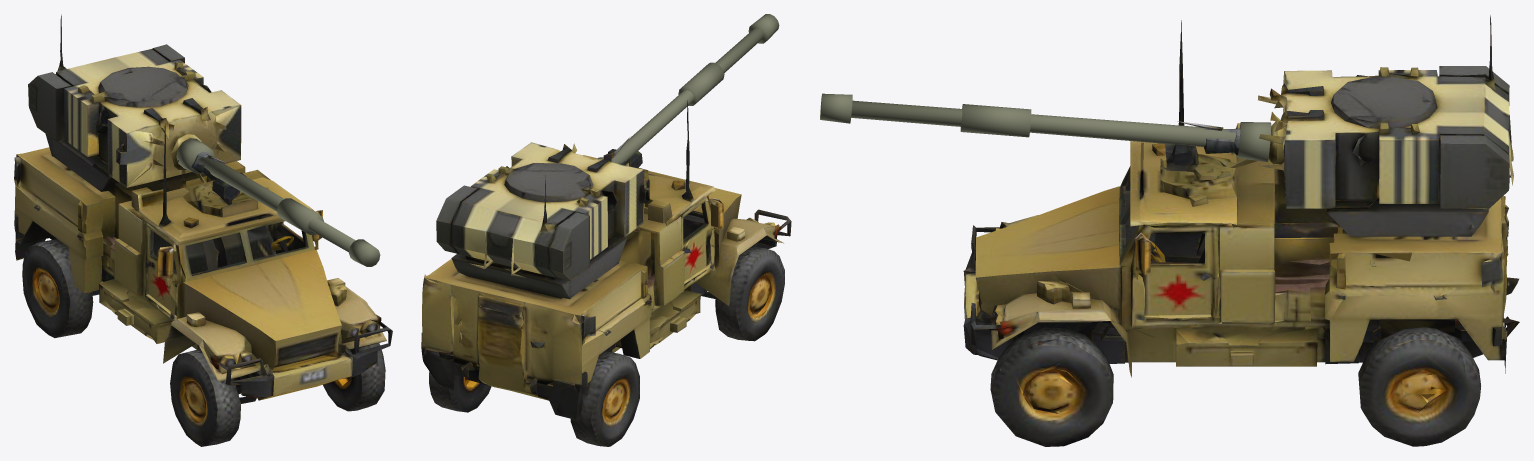
File: artillery_spg.glb
3 renders of one model, left to right at view 1: azimuth 30°, elevation 25°; view 2: azimuth 150°, elevation 25°; view 3: azimuth 270°, elevation 25°, orthographic. The views are drawn at different scales.
Parts seen in each view (by area): view 1: artillery_spg, barrel; view 2: artillery_spg, barrel; view 3: artillery_spg, barrel.
Part boxes in pixels (left/top/right/bottom): artillery_spg: left=14, top=14, right=392, bottom=446; barrel: left=176, top=138, right=380, bottom=266; artillery_spg: left=421, top=100, right=791, bottom=446; barrel: left=597, top=14, right=779, bottom=163; artillery_spg: left=963, top=15, right=1519, bottom=446; barrel: left=820, top=93, right=1271, bottom=162.
Size of the model in its own units: 4.98 by 7.85 by 13.84.
Materials: 2 (1 with a texture image).
